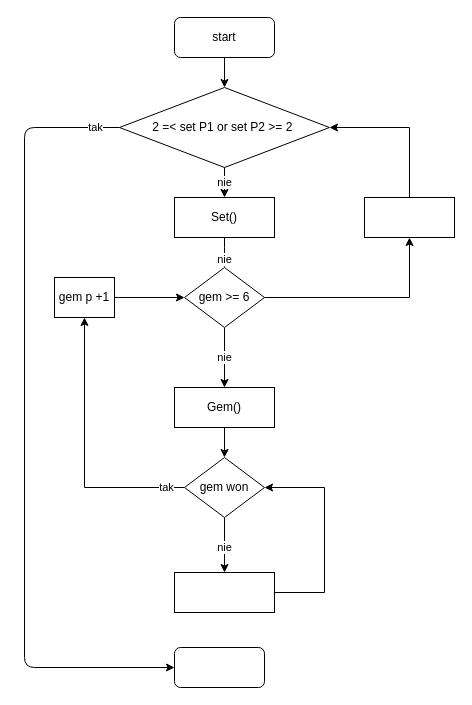
Some shapes in this 472 by 705 pixel diagram are drawn without their labels. Here are the shapes that lost their labels. From the top down, the centre of each, then its label:
point 409,217: set point +1
point 224,592: bp random +1
point 219,667: END
